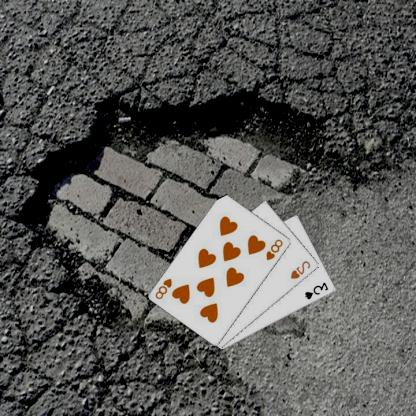2H: (290, 258, 314, 280)
3S: (304, 280, 331, 300)
8H: (265, 236, 286, 262), (154, 276, 175, 300)
